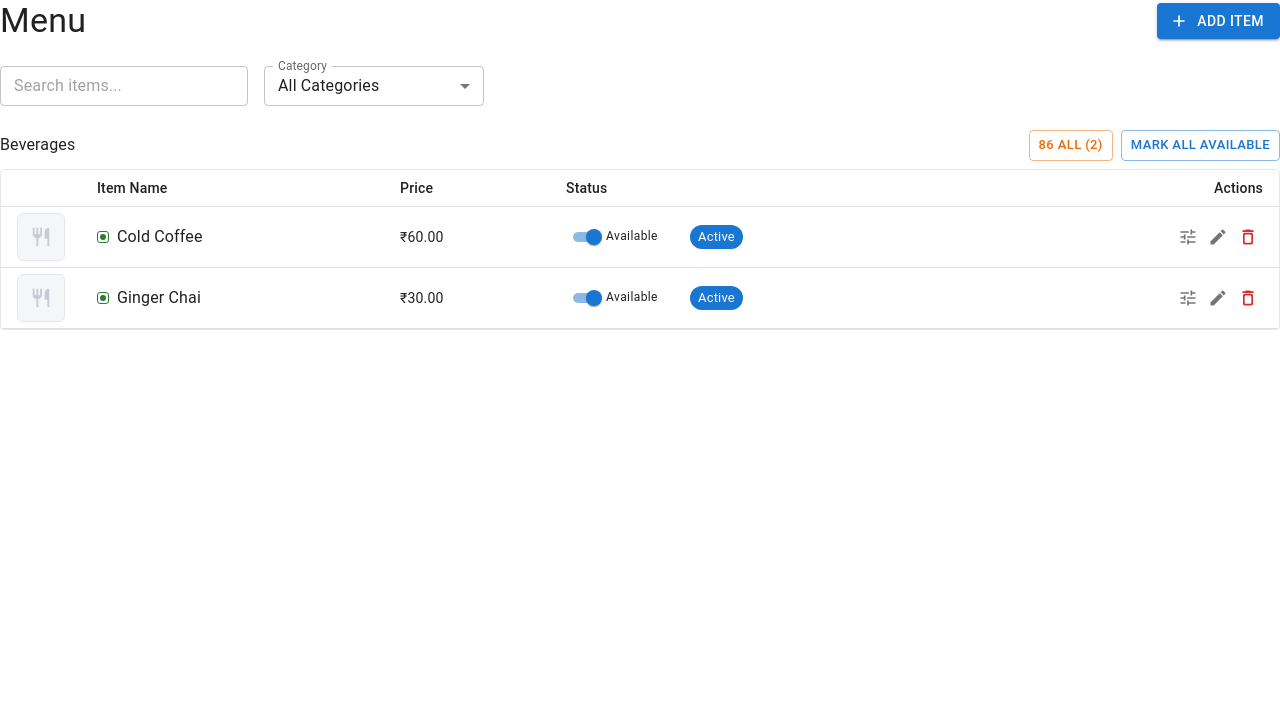
Menu - bulk availability requires confirmation › also confirms before restoring a category with 'Mark All Available'
Check: the text "Ginger Chai" is shown, box [117,286,201,310]
Click the button "Mark All Available": (1200, 145) [1121,130,1279,161]
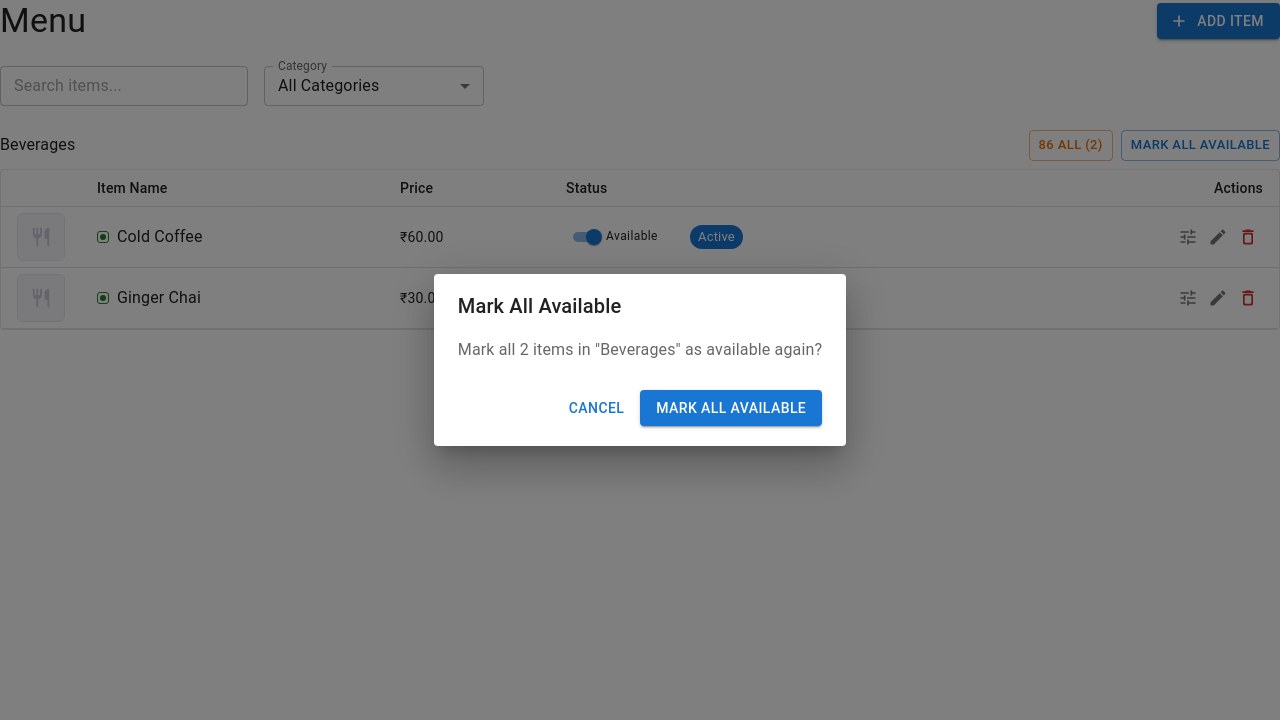
Check: the text "Mark all 2 items in \"Beverages\" as available again?" is shown, box [458,338,822,362]
